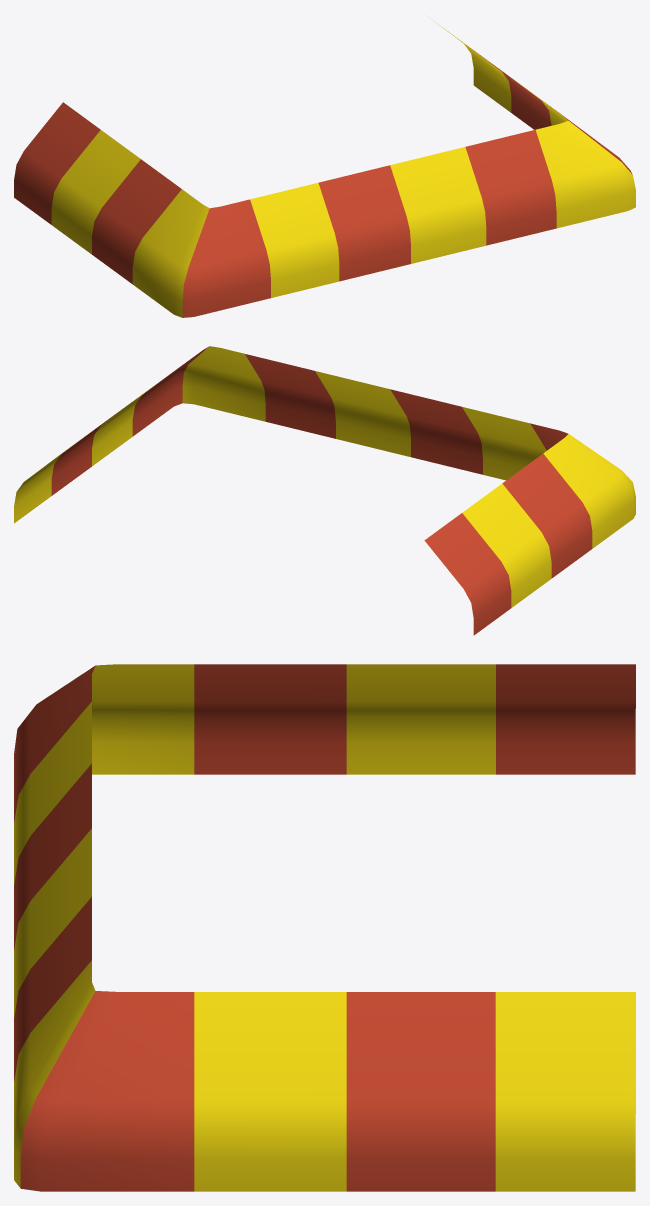
File: shop01_upgrade2_s01.FBX
3 views of the same model, one above another, from view 1: azimuth 30°, elevation 25°; view 2: azimuth 150°, elevation 25°; view 3: azimuth 270°, elevation 25° (orthographic). The views are drawn at different scales.
Visible parts, largest first — view 1: shop01_upgrade2_s01; view 2: shop01_upgrade2_s01; view 3: shop01_upgrade2_s01.
Part boxes in pixels (x1,y1,x2,y2): shop01_upgrade2_s01: (14,21,635,317); shop01_upgrade2_s01: (14,346,635,635); shop01_upgrade2_s01: (14,664,635,1191).
Size of the model in its own units: 534 by 337 by 92.6.
1 material, 1 textured.
